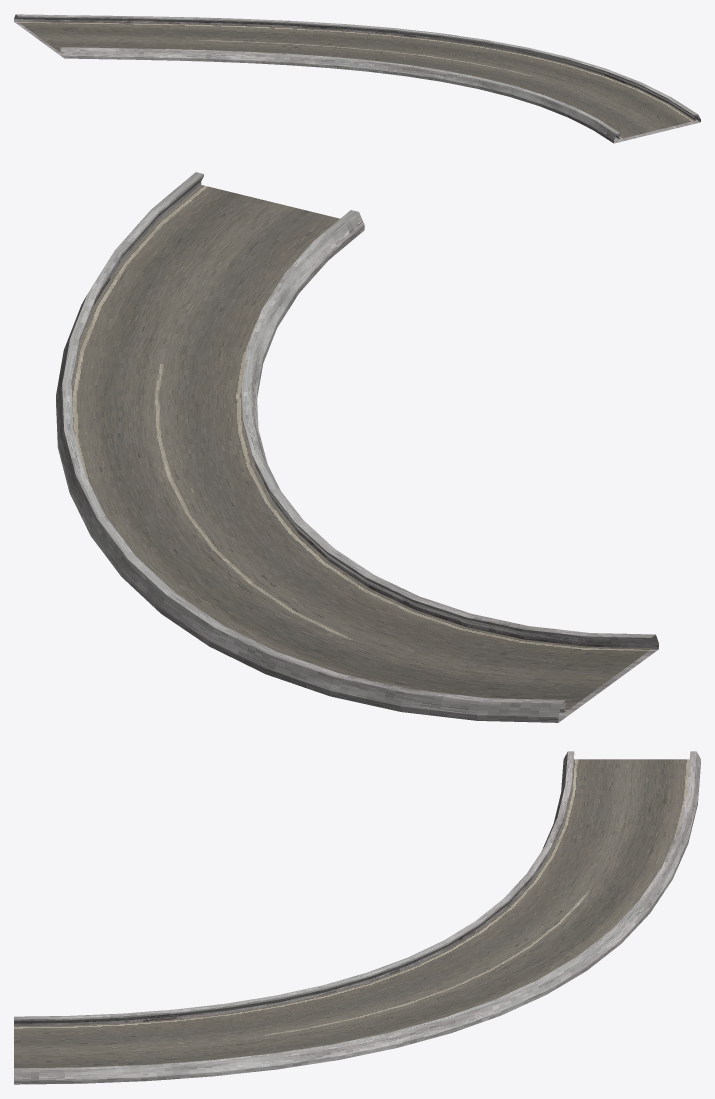
Rendered from road-Turn-Flat-BiSlopeUp-Up1-Left-Size5.glb.
3 renders of one model, top to bottom at view 1: azimuth 30°, elevation 25°; view 2: azimuth 150°, elevation 25°; view 3: azimuth 270°, elevation 25°, orthographic. The views are drawn at different scales.
Parts seen in each view (by area): view 1: road-Turn-Flat-BiSlopeUp-Up1-Left-Size5; view 2: road-Turn-Flat-BiSlopeUp-Up1-Left-Size5; view 3: road-Turn-Flat-BiSlopeUp-Up1-Left-Size5.
Part boxes in pixels (box(x1,y1,x2,y2)): road-Turn-Flat-BiSlopeUp-Up1-Left-Size5: box(14, 14, 700, 143); road-Turn-Flat-BiSlopeUp-Up1-Left-Size5: box(56, 172, 658, 722); road-Turn-Flat-BiSlopeUp-Up1-Left-Size5: box(14, 751, 700, 1084).
Size of the model in its own units: 5 by 0.482 by 5.
2 materials, 2 textured.
